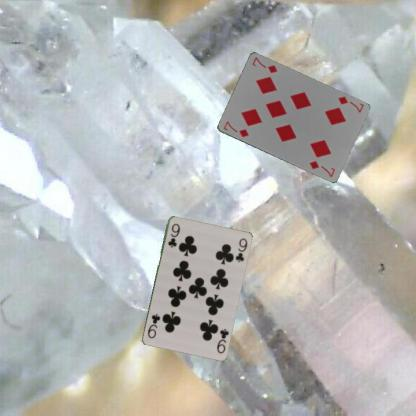7d: (220, 118, 250, 139), (335, 94, 365, 114)
9c: (214, 326, 230, 354), (165, 221, 181, 248)
